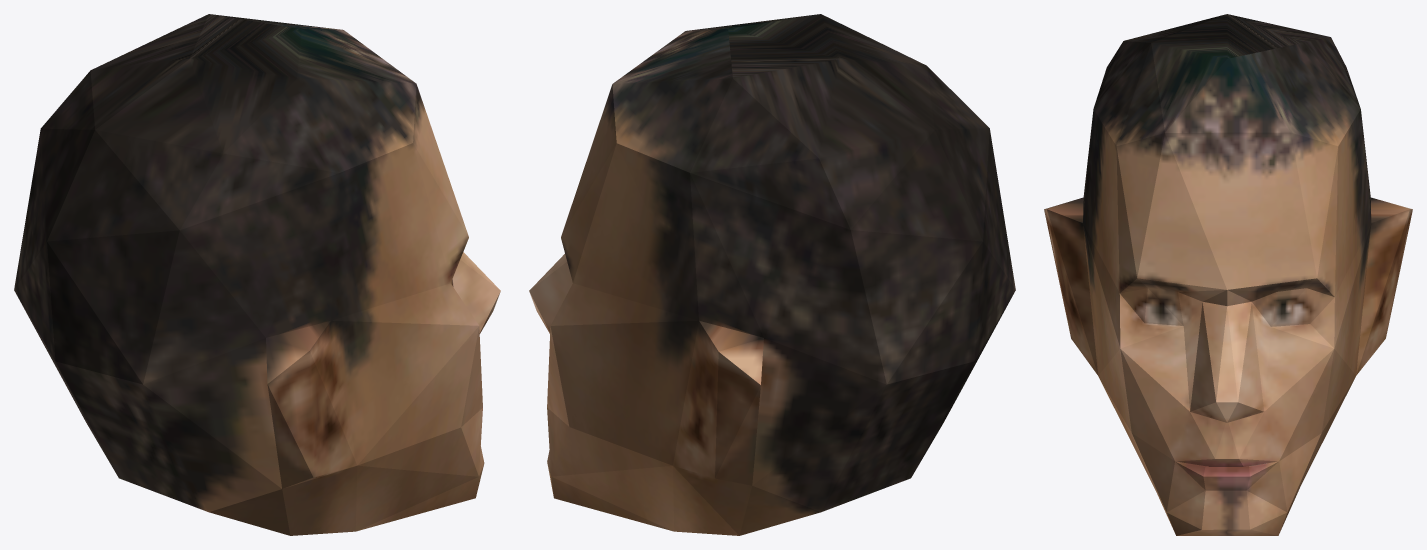
File: FLAIL.glb
3 views of the same model, side by side, from view 1: azimuth 30°, elevation 25°; view 2: azimuth 150°, elevation 25°; view 3: azimuth 270°, elevation 25° (orthographic). The views are drawn at different scales.
Parts seen in each view (by area): view 1: zm_Morph; view 2: zm_Morph; view 3: zm_Morph.
Part boxes in pixels (<box>): zm_Morph: <box>14,14,500,535</box>; zm_Morph: <box>529,14,1015,535</box>; zm_Morph: <box>1044,14,1412,535</box>.
Bounding box in the file's own units: 0.2333 × 0.2413 × 0.1931.
3 materials, 3 textured.
